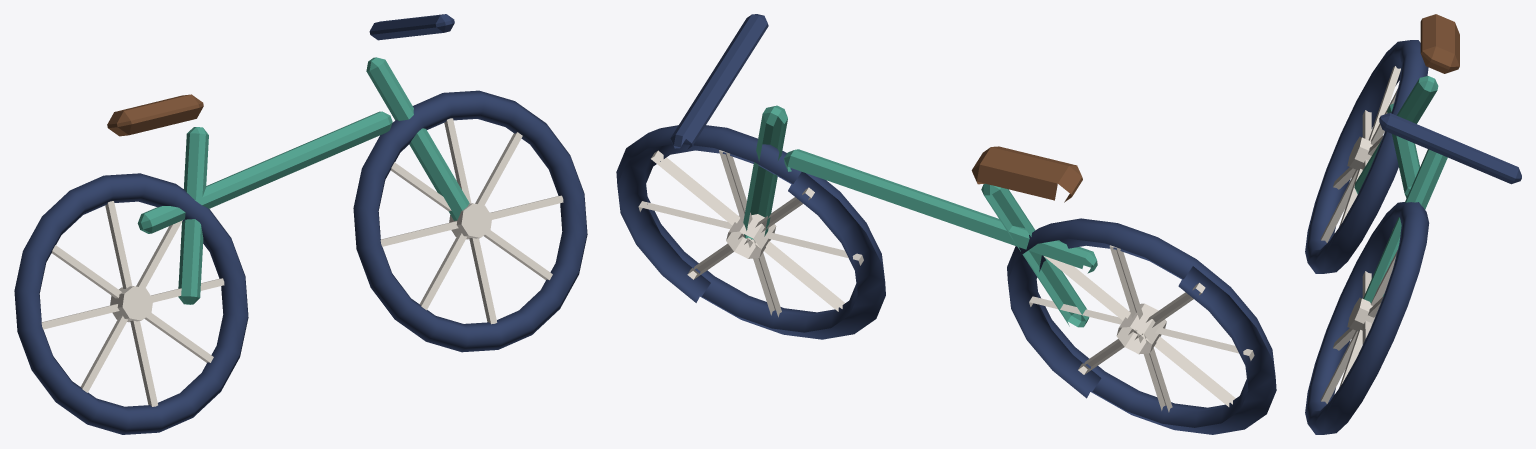
Rendered from ac_bike_lean.glb.
3 renders of one model, left to right at view 1: azimuth 30°, elevation 25°; view 2: azimuth 150°, elevation 25°; view 3: azimuth 270°, elevation 25°, orthographic. The views are drawn at different scales.
Parts seen in each view (by area): view 1: body; view 2: body; view 3: body.
Part boxes in pixels (bbox=[...]): body: bbox=[14, 14, 587, 434]; body: bbox=[616, 14, 1276, 434]; body: bbox=[1305, 14, 1521, 434].
Size of the model in its own units: 1.84 by 0.9613 by 0.6262.
